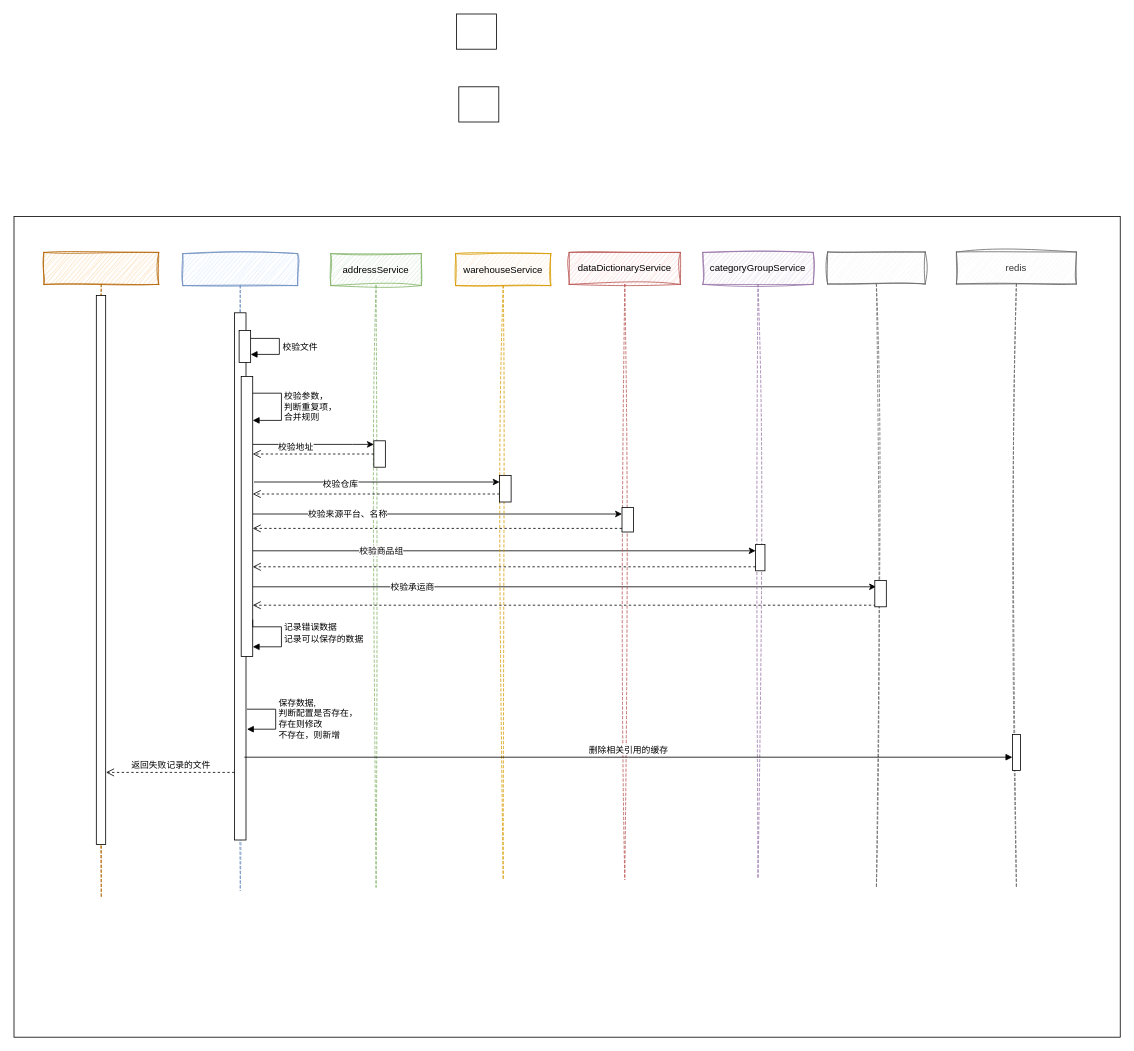
This 1134x1051 diagram has some shape labels left out. Here are the shapes that lost their labels. From the top down, the box of each, then its label:
(43, 252, 159, 898): client
(182, 253, 298, 890): carrierRuleService
(827, 251, 925, 887): carrierService
